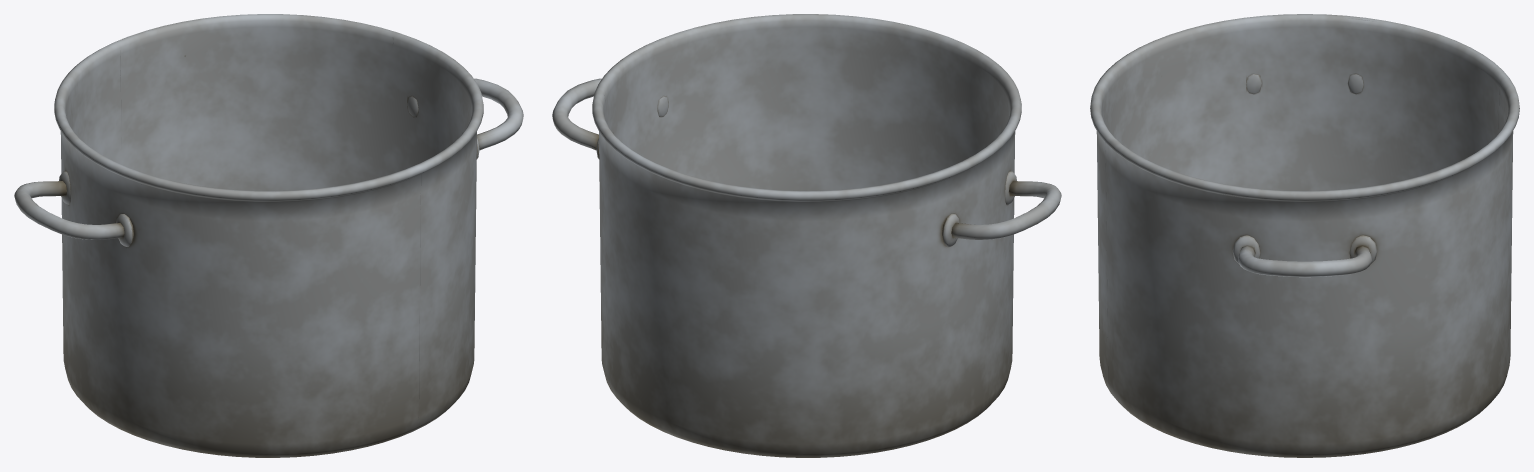
The model's file is caldeirao_sujo_realista.glb.
3 renders of one model, left to right at view 1: azimuth 30°, elevation 25°; view 2: azimuth 150°, elevation 25°; view 3: azimuth 270°, elevation 25°, orthographic.
Parts seen in each view (by area): view 1: Cozinha_Caldeirao.002; view 2: Cozinha_Caldeirao.002; view 3: Cozinha_Caldeirao.002.
Boxes of the visible parts, x1,y1,x2,y2 form: Cozinha_Caldeirao.002: (14, 14, 523, 457); Cozinha_Caldeirao.002: (552, 14, 1061, 457); Cozinha_Caldeirao.002: (1090, 14, 1519, 457).
Bounding box in the file's own units: 0.8321 × 0.45 × 0.64.
1 material, 1 textured.
